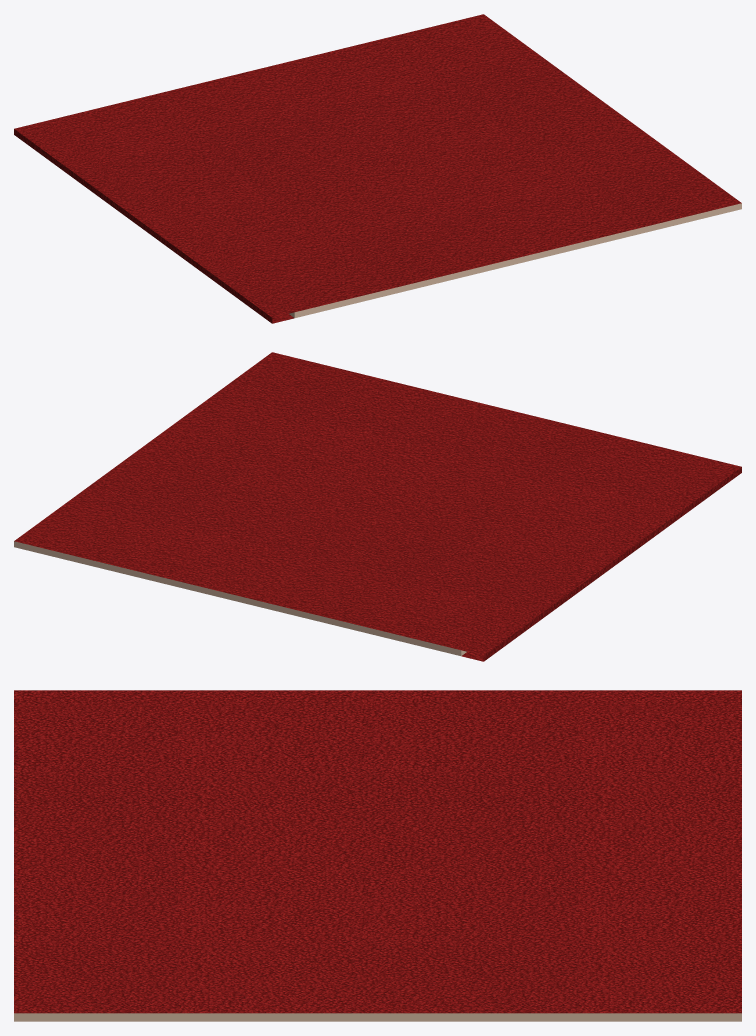
The model's file is Alfombra.fbx.
3 views of the same model, one above another, from view 1: azimuth 30°, elevation 25°; view 2: azimuth 150°, elevation 25°; view 3: azimuth 270°, elevation 25° (orthographic). The views are drawn at different scales.
Parts seen in each view (by area): view 1: Alfombra; view 2: Alfombra; view 3: Alfombra.
Boxes of the visible parts, box(x1,y1,x2,y2) form: Alfombra: box(14, 14, 741, 323); Alfombra: box(14, 352, 741, 661); Alfombra: box(14, 690, 741, 1021).
Size of the model in its own units: 421 by 5.15 by 401.
2 materials, 1 textured.
